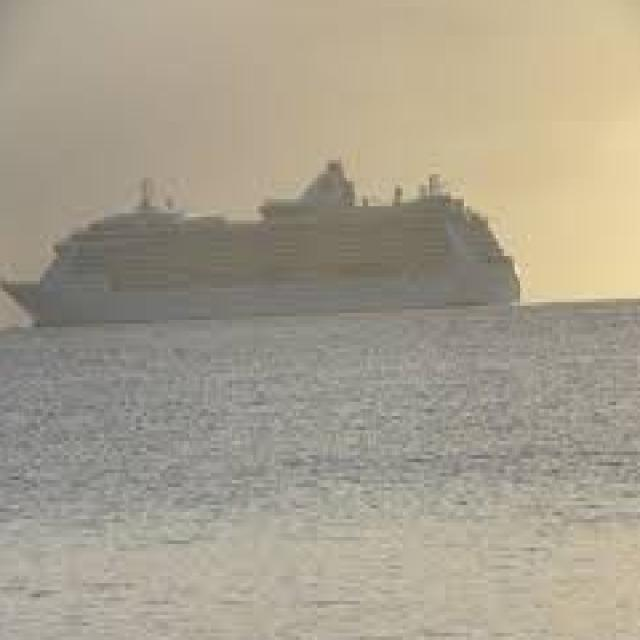passenger ship: (12, 146, 521, 322)
